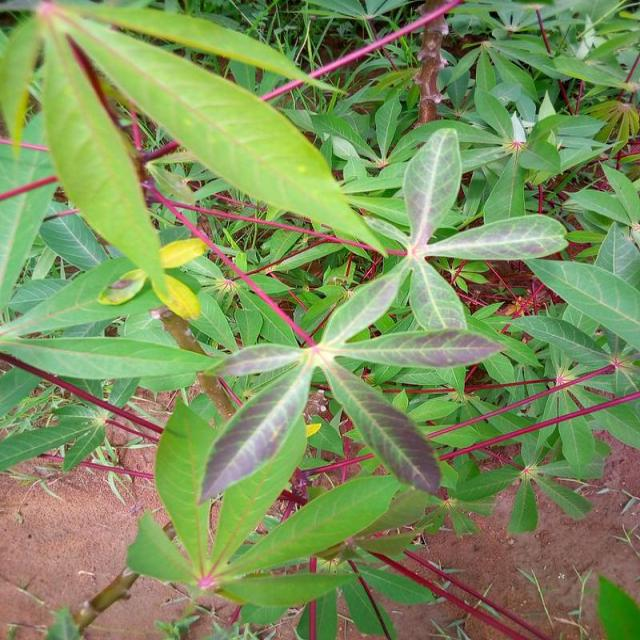cassava leaf: (38, 3, 393, 262), (36, 1, 201, 321)
